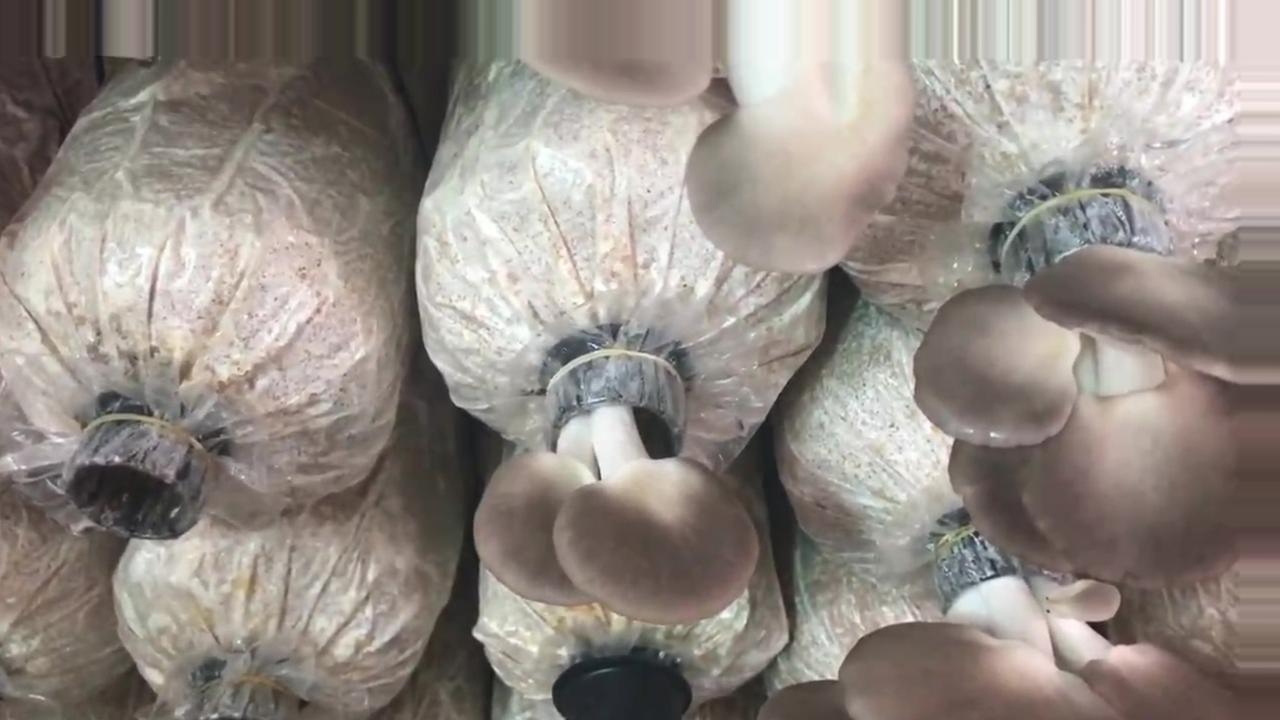nam: (914, 189, 1280, 584), (759, 528, 1275, 720), (473, 335, 759, 620), (683, 1, 914, 274), (521, 1, 710, 107)
